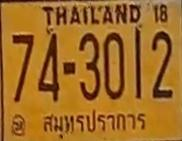0: (103, 32, 124, 99)
1: (134, 28, 140, 100)
2: (151, 31, 172, 99)
3: (78, 32, 100, 100)
4: (37, 33, 59, 101)
7: (12, 34, 34, 103)
SPK: (37, 108, 148, 135)
